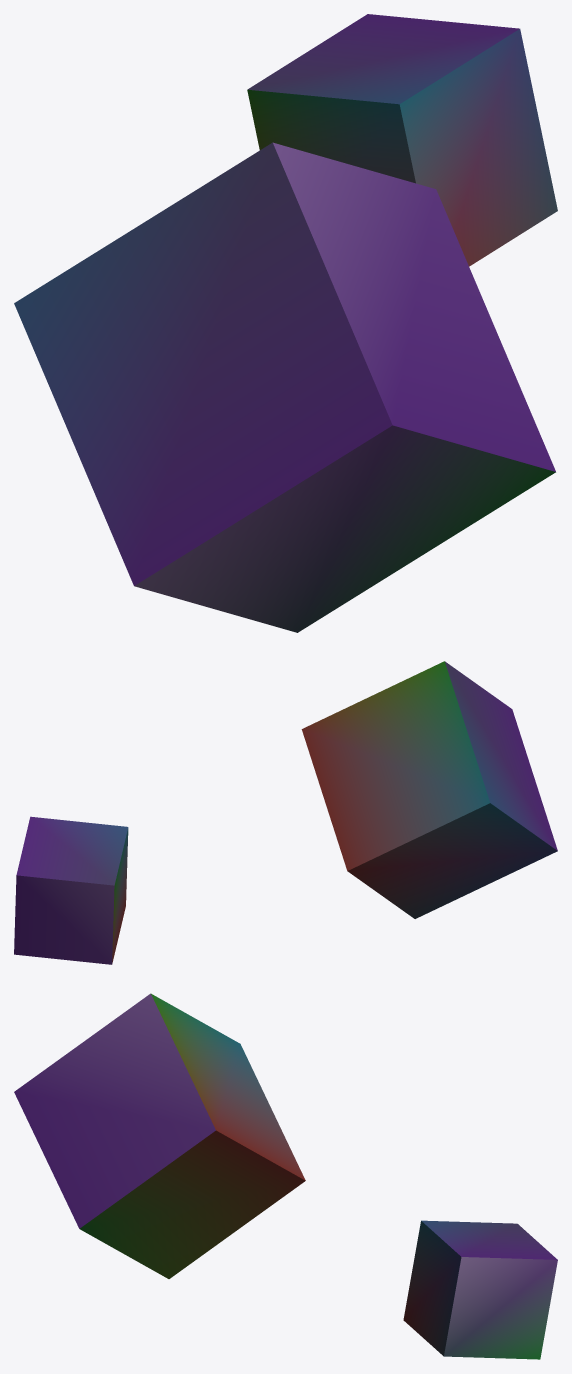
File: nla.fbx
3 views of the same model, one above another, from view 1: azimuth 30°, elevation 25°; view 2: azimuth 150°, elevation 25°; view 3: azimuth 270°, elevation 25° (orthographic). The views are drawn at different scales.
Parts seen in each view (by area): view 1: Cube2, Cube; view 2: Cube2, Cube; view 3: Cube2, Cube.
Boxes of the visible parts, x1,y1,x2,y2 form: Cube2: (14,142,555,632); Cube: (247,14,557,266); Cube2: (301,661,557,918); Cube: (14,816,128,964); Cube2: (14,993,305,1278); Cube: (403,1220,557,1359).
Bounding box in the file's own units: 5.21 × 3.45 × 6.18.
